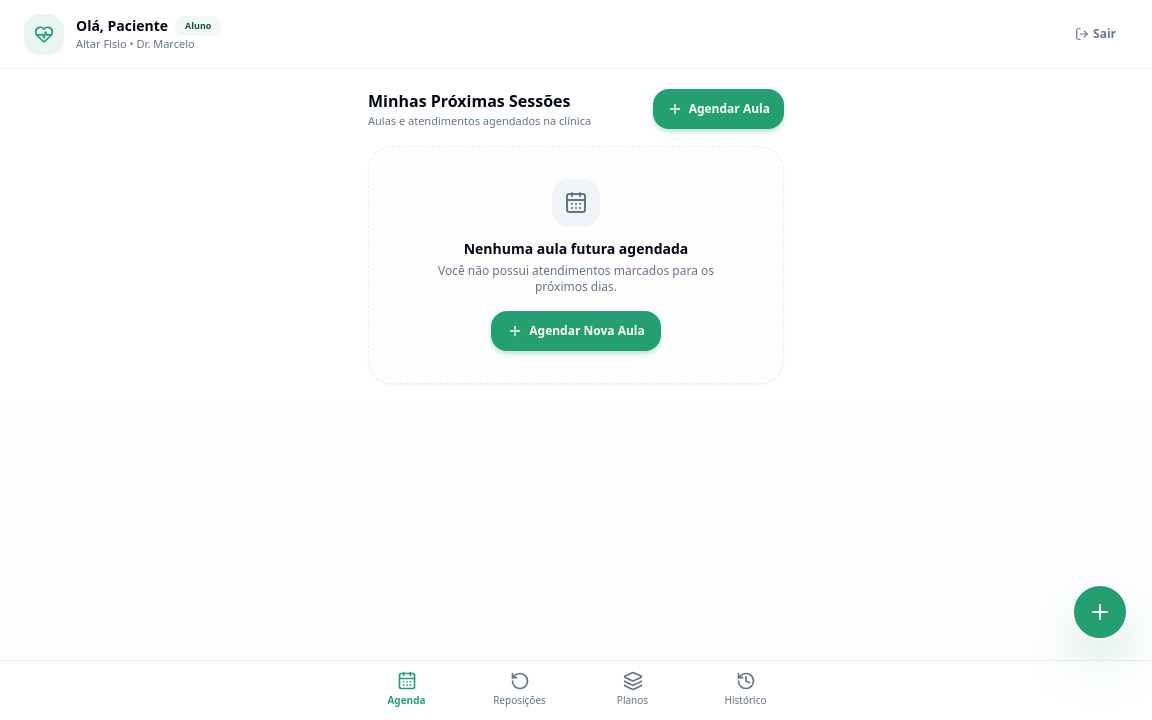
Test: monthly booking dialog toggles class selections and displays elegant status indicators
What coordinates should you click on to do the following:
click the button "Agendar Aula"
I would click on:
 (718, 109)
Its box is [653,89,784,129].
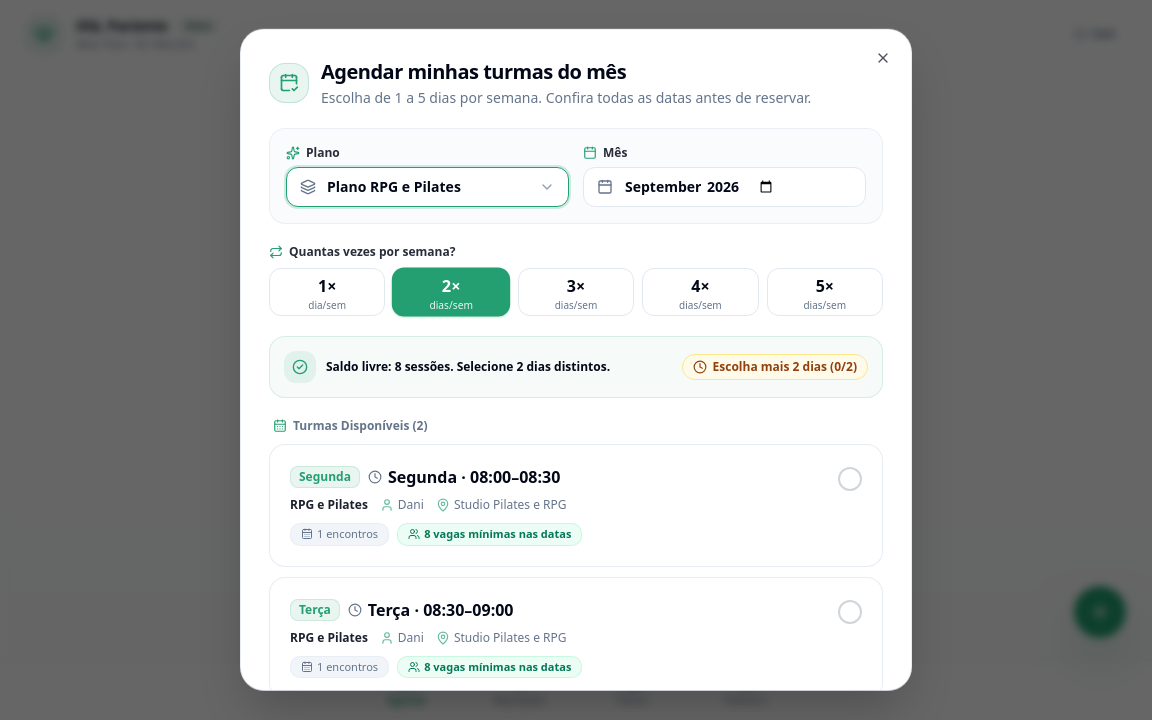
Check: the heading "Agendar minhas turmas do mês" is shown, box [321,58,626,85]
Check: the dropdown labelled "Plano" is shown, box [286,167,569,207]
Check: the field labelled "Mês" is shown, box [583,167,866,207]
# Clica na turma para selecionar
What coordinates should you click on to do the following:
click the button "Segunda · 08:00–08:30"
I would click on:
 (325, 477)
Its box is [269,444,883,566].
(page scrolled)
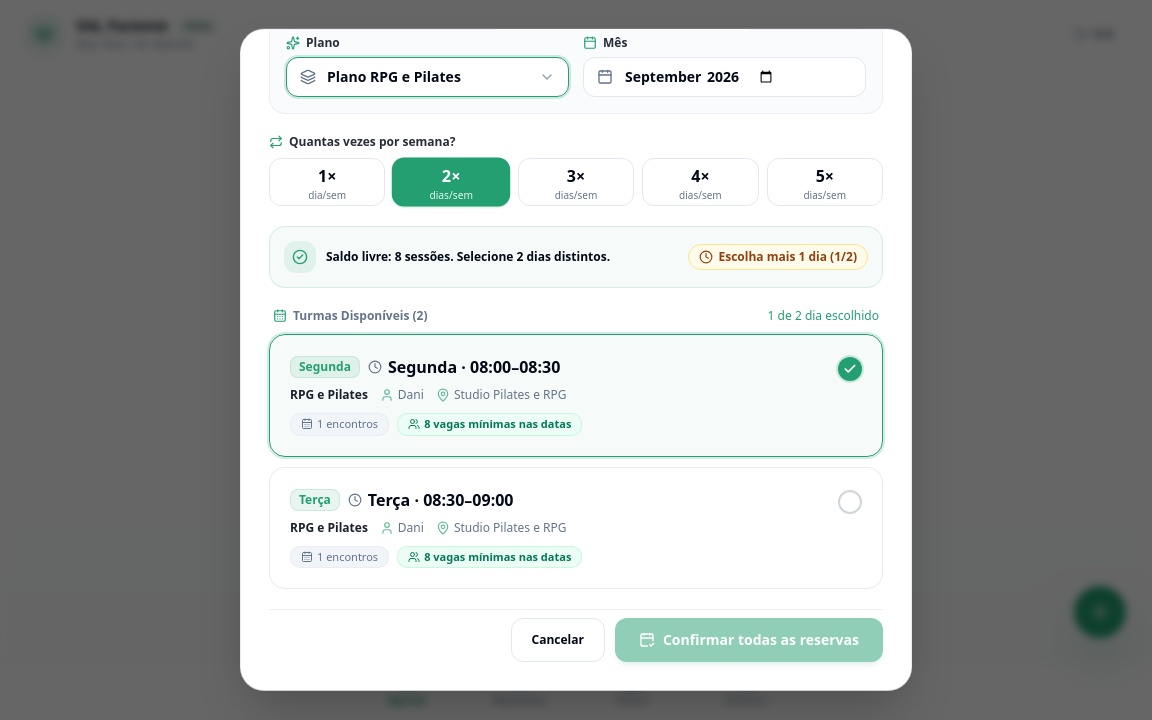
Check: the button "Cancelar" is shown, box [510,618,605,662]
Check: the button "Confirmar todas as reservas" is shown, box [615,618,883,662]
